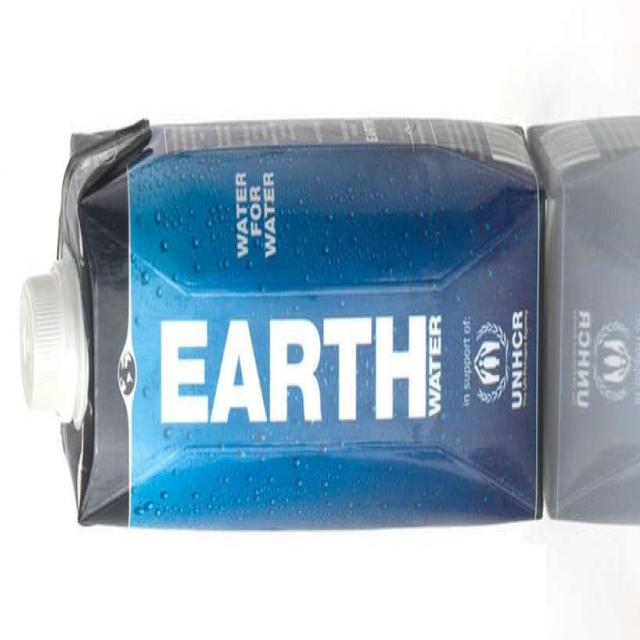non_white_jug: (17, 112, 546, 532)
